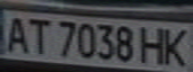0: (72, 20, 96, 60)
3: (93, 21, 118, 61)
7: (51, 18, 78, 57)
8: (115, 22, 139, 63)
A: (0, 14, 33, 54)
H: (136, 24, 172, 65)
K: (157, 25, 193, 69)
T: (21, 16, 54, 55)
